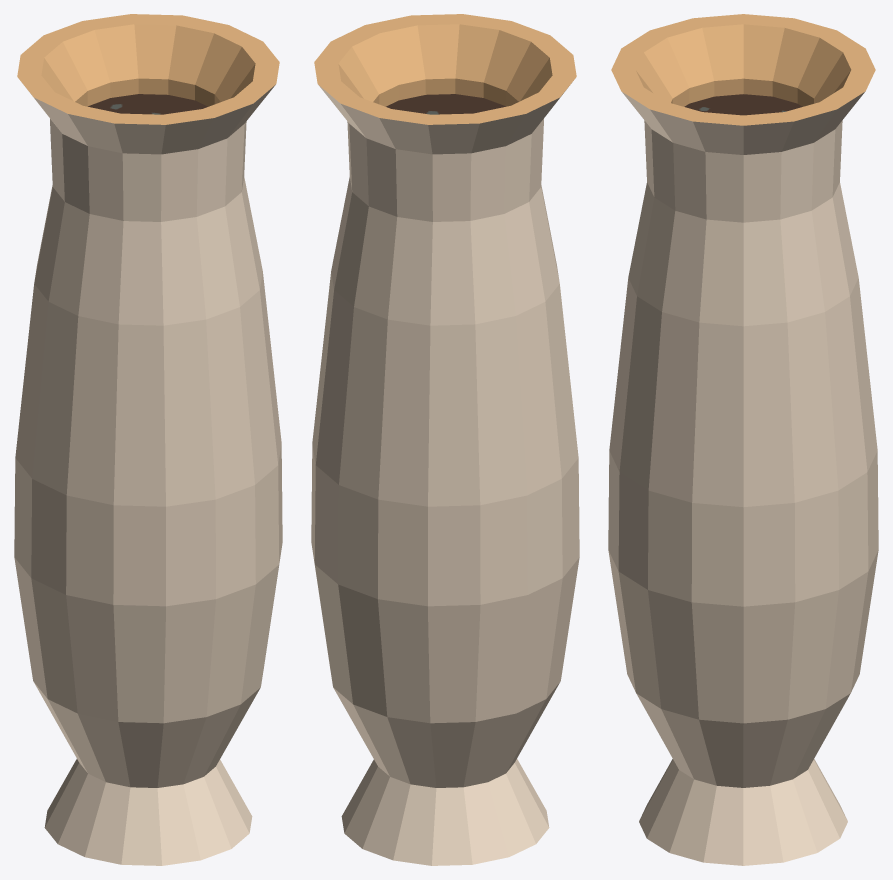
File: PotSix.fbx
The picture shows the model from 3 angles, left to right: view 1: azimuth 30°, elevation 25°; view 2: azimuth 150°, elevation 25°; view 3: azimuth 270°, elevation 25°; orthographic projection.
Visible parts, largest first — view 1: Cube; view 2: Cube; view 3: Cube.
Boxes of the visible parts, left/top/right/bottom form: Cube: left=14, top=14, right=282, bottom=865; Cube: left=311, top=14, right=579, bottom=865; Cube: left=608, top=14, right=878, bottom=865.
Size of the model in its own units: 0.7754 by 2.38 by 0.7754.
